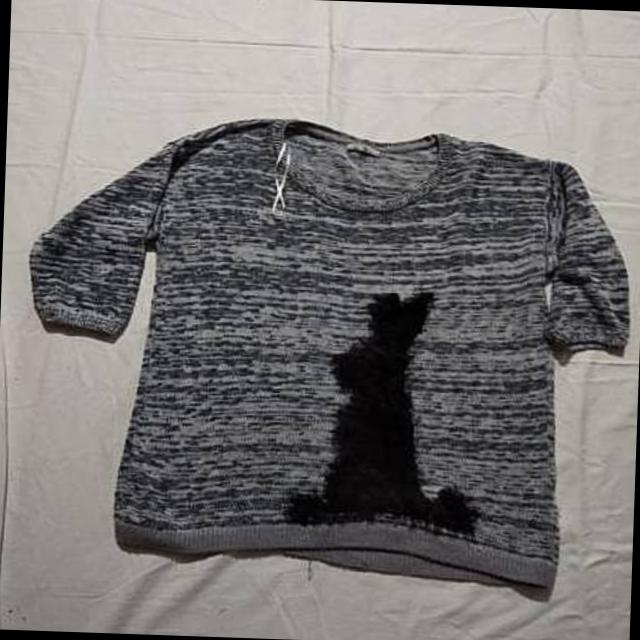T_SHIRT: (13, 104, 640, 611)
